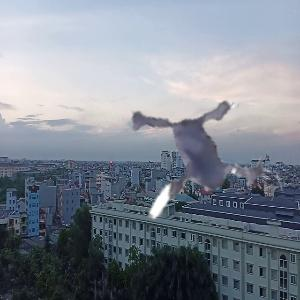drone: (63, 62, 290, 289)
